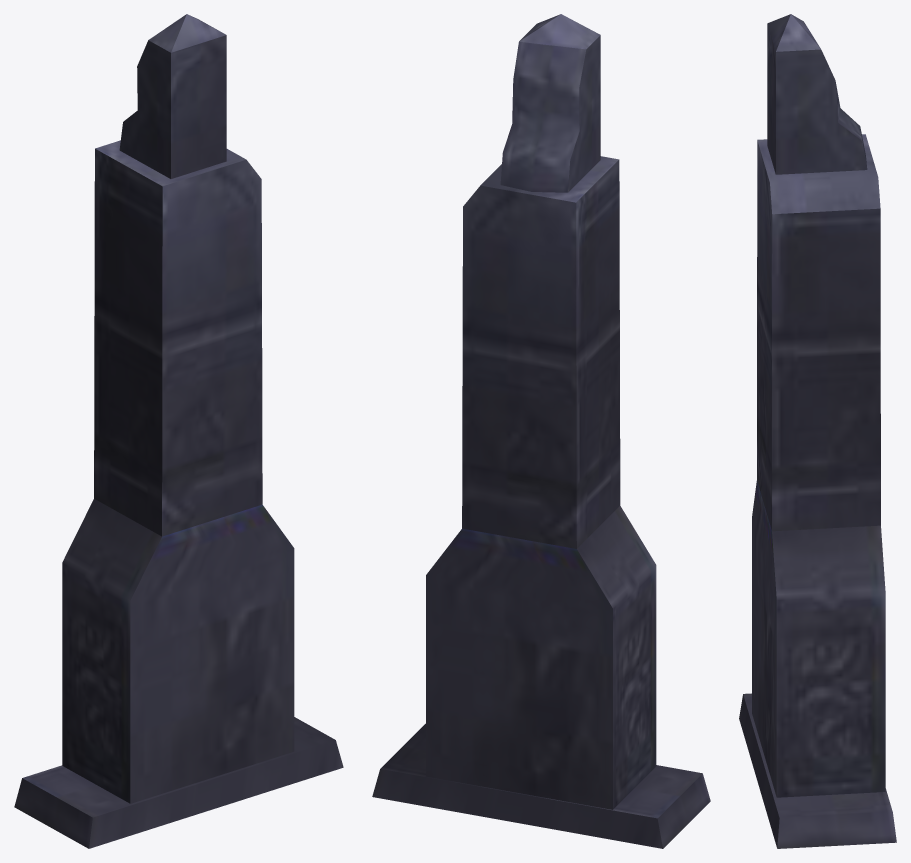
The model's file is pvp_zhuzi.FBX.
The picture shows the model from 3 angles, left to right: view 1: azimuth 30°, elevation 25°; view 2: azimuth 150°, elevation 25°; view 3: azimuth 270°, elevation 25°; orthographic projection. The views are drawn at different scales.
Parts seen in each view (by area): view 1: pvp_zhuzi; view 2: pvp_zhuzi; view 3: pvp_zhuzi.
Boxes of the visible parts, x1,y1,x2,y2 form: pvp_zhuzi: (14, 14, 343, 848); pvp_zhuzi: (372, 14, 710, 848); pvp_zhuzi: (739, 14, 896, 848).
Size of the model in its own units: 53.6 by 26.19 by 140.
